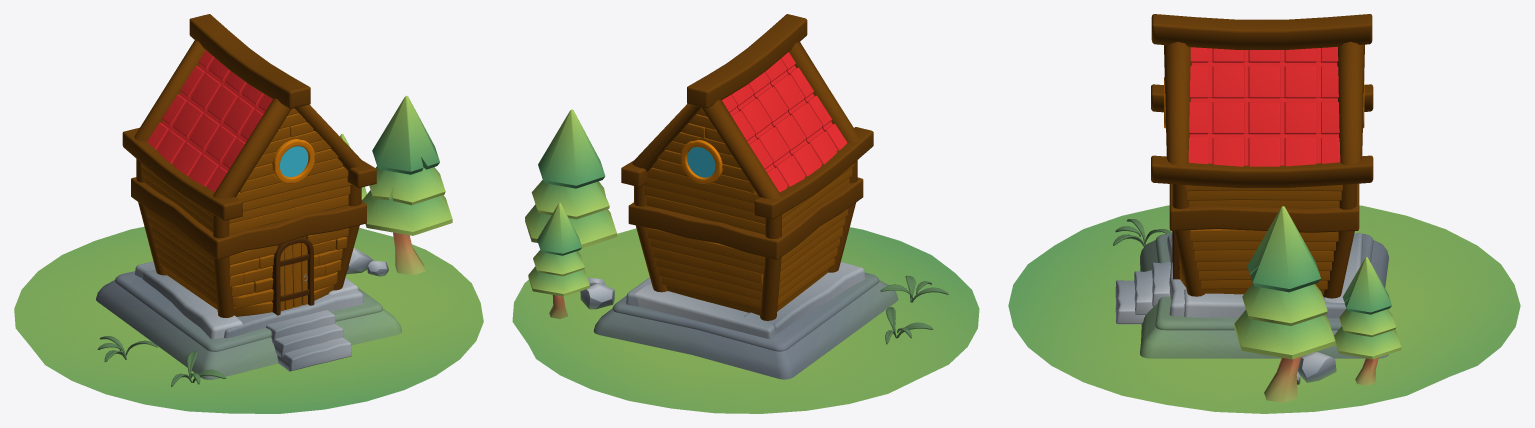
The model's file is ahasapEv.fbx.
The picture shows the model from 3 angles, left to right: view 1: azimuth 30°, elevation 25°; view 2: azimuth 150°, elevation 25°; view 3: azimuth 270°, elevation 25°; orthographic projection. The views are drawn at different scales.
Visible parts, largest first — view 1: Circle.008, beton.001, Cube.086, Fir_Tree_02, Cube.124, Cube.094, Cube.074, Cube.093, Cube.088, Cube.081, Cube.080, Cube.084 (+12 smaller); view 2: Circle.008, beton.001, Cube.086, Cube.124, Fir_Tree_02, Cube.089, Cube.094, Cube.074, Cube.093, Cube.088, Fir_Tree_02.001, Cube.081 (+9 smaller); view 3: Circle.008, Cube.086, Fir_Tree_02, Cube.093, Cube.088, beton.001, Cube.074, Cube.095, Fir_Tree_02.001, Cube.094, Cube.081, Cube.079 (+8 smaller).
Part boxes in pixels (x1,y1,x2,y2): Circle.008: [14, 226, 483, 413]; beton.001: [96, 271, 401, 379]; Cube.086: [147, 50, 272, 191]; Fir_Tree_02: [362, 95, 452, 275]; Cube.124: [229, 108, 351, 233]; Cube.094: [131, 177, 366, 259]; Cube.074: [134, 40, 363, 198]; Cube.093: [141, 163, 217, 305]; Cube.088: [189, 14, 310, 108]; Cube.081: [136, 159, 361, 317]; Cube.080: [122, 127, 242, 220]; Cube.084: [271, 237, 314, 315]; Circle.008: [512, 227, 979, 413]; beton.001: [593, 272, 898, 379]; Cube.086: [722, 52, 847, 192]; Cube.124: [643, 108, 765, 234]; Fir_Tree_02: [525, 109, 616, 248]; Cube.089: [648, 228, 764, 308]; Cube.094: [628, 177, 863, 259]; Cube.074: [632, 42, 859, 198]; Cube.093: [777, 163, 854, 305]; Cube.088: [687, 14, 807, 108]; Fir_Tree_02.001: [528, 203, 589, 318]; Cube.081: [634, 160, 857, 320]; Circle.008: [1008, 205, 1520, 413]; Cube.086: [1188, 46, 1340, 166]; Fir_Tree_02: [1234, 206, 1335, 402]; Cube.093: [1185, 184, 1342, 289]; Cube.088: [1151, 14, 1372, 49]; beton.001: [1140, 233, 1388, 358]; Cube.074: [1164, 20, 1364, 165]; Cube.095: [1151, 155, 1373, 187]; Fir_Tree_02.001: [1334, 257, 1401, 385]; Cube.094: [1169, 183, 1359, 232]; Cube.081: [1172, 184, 1356, 298]; Cube.079: [1184, 289, 1346, 318].
Bounding box in the file's own units: 815 × 507 × 804.
